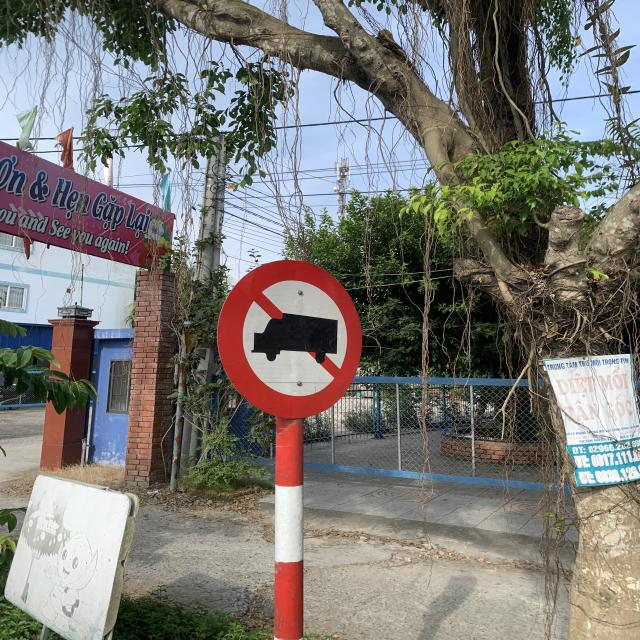Cam_Xe_Tai: (218, 259, 364, 420)
